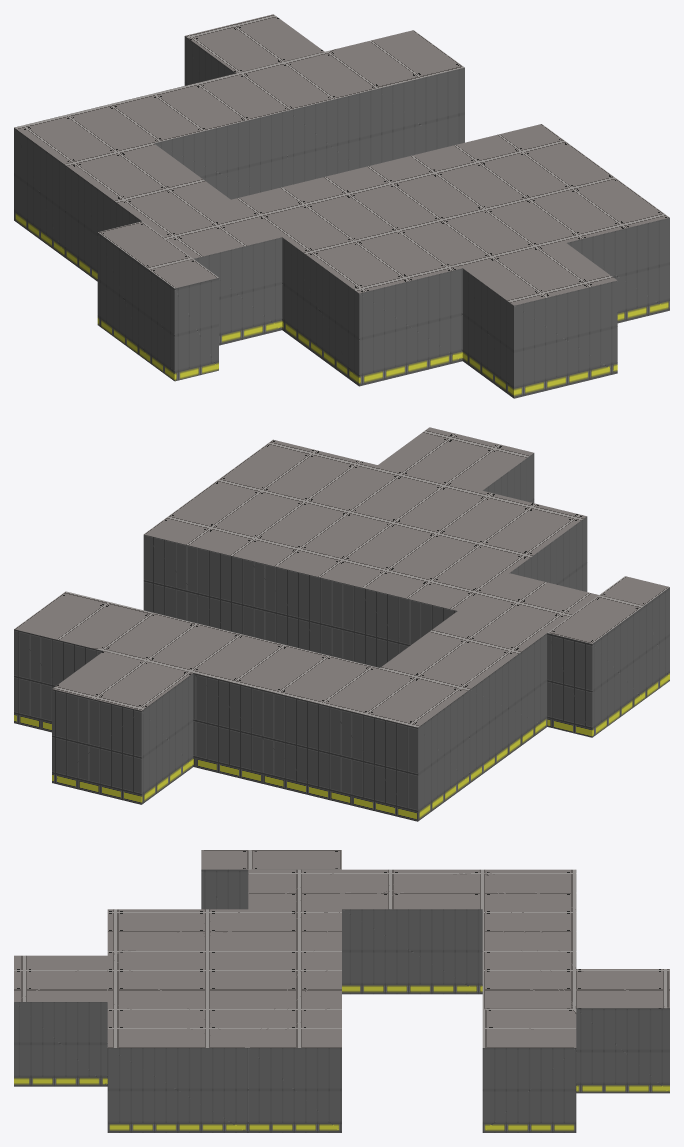
The model's file is demo_map.glb.
The picture shows the model from 3 angles, top to bottom: view 1: azimuth 30°, elevation 25°; view 2: azimuth 150°, elevation 25°; view 3: azimuth 270°, elevation 25°; orthographic projection. The views are drawn at different scales.
Parts seen in each view (by area): view 1: Plane; view 2: Plane; view 3: Plane.
Part boxes in pixels (x1,y1,x2,y2): Plane: (14, 14, 669, 398); Plane: (14, 427, 669, 821); Plane: (14, 850, 669, 1132).
Size of the model in its own units: 10 by 2 by 14.
3 materials, 3 textured.
